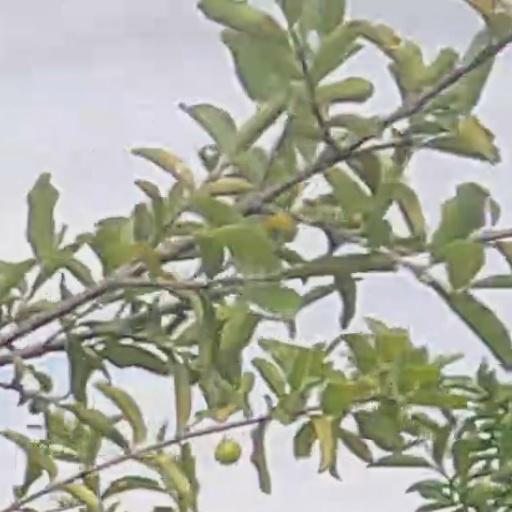acerola: (216, 439, 242, 465)
